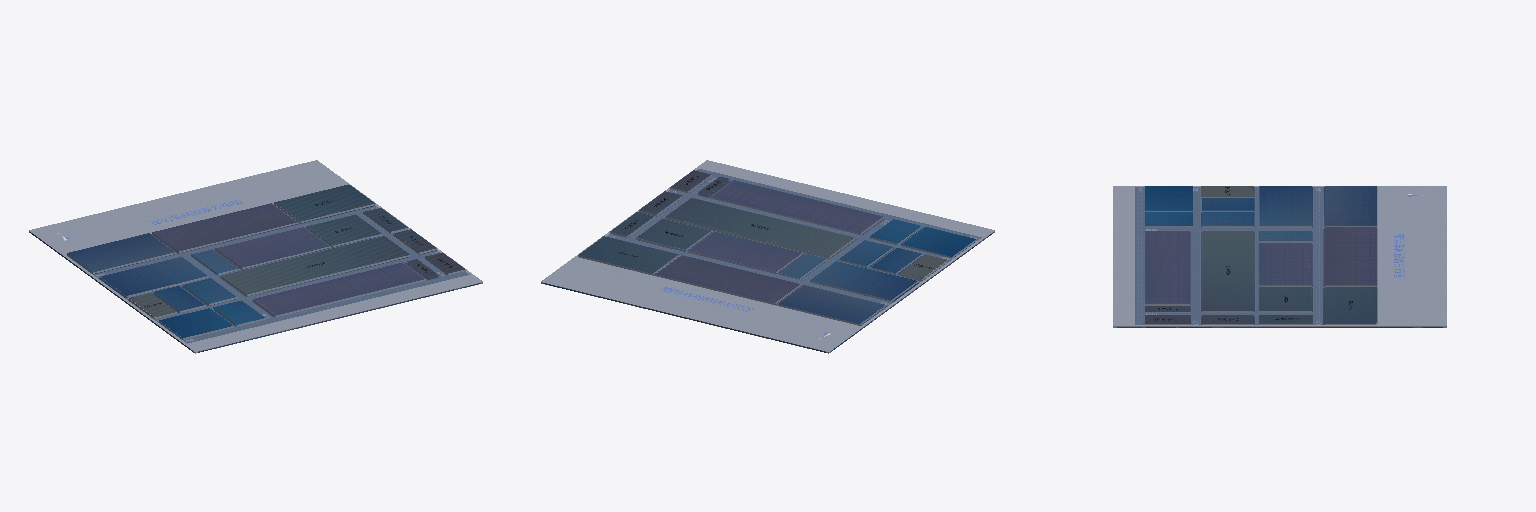
The picture shows the model from 3 angles: view 1: azimuth 30°, elevation 25°; view 2: azimuth 150°, elevation 25°; view 3: azimuth 270°, elevation 25°; orthographic projection.
Parts seen in each view (by area): view 1: Box002, Box001; view 2: Box002, Box001; view 3: Box002, Box001.
Boxes of the visible parts, box(x1,y1,x2,y2) form: Box002: box(67, 184, 465, 339); Box001: box(29, 160, 482, 353); Box002: box(578, 170, 976, 325); Box001: box(541, 160, 994, 353); Box002: box(1145, 186, 1376, 324); Box001: box(1113, 186, 1446, 327).
Bounding box in the file's own units: 2082 × 22.21 × 2082.
Materials: 1 (1 with a texture image).